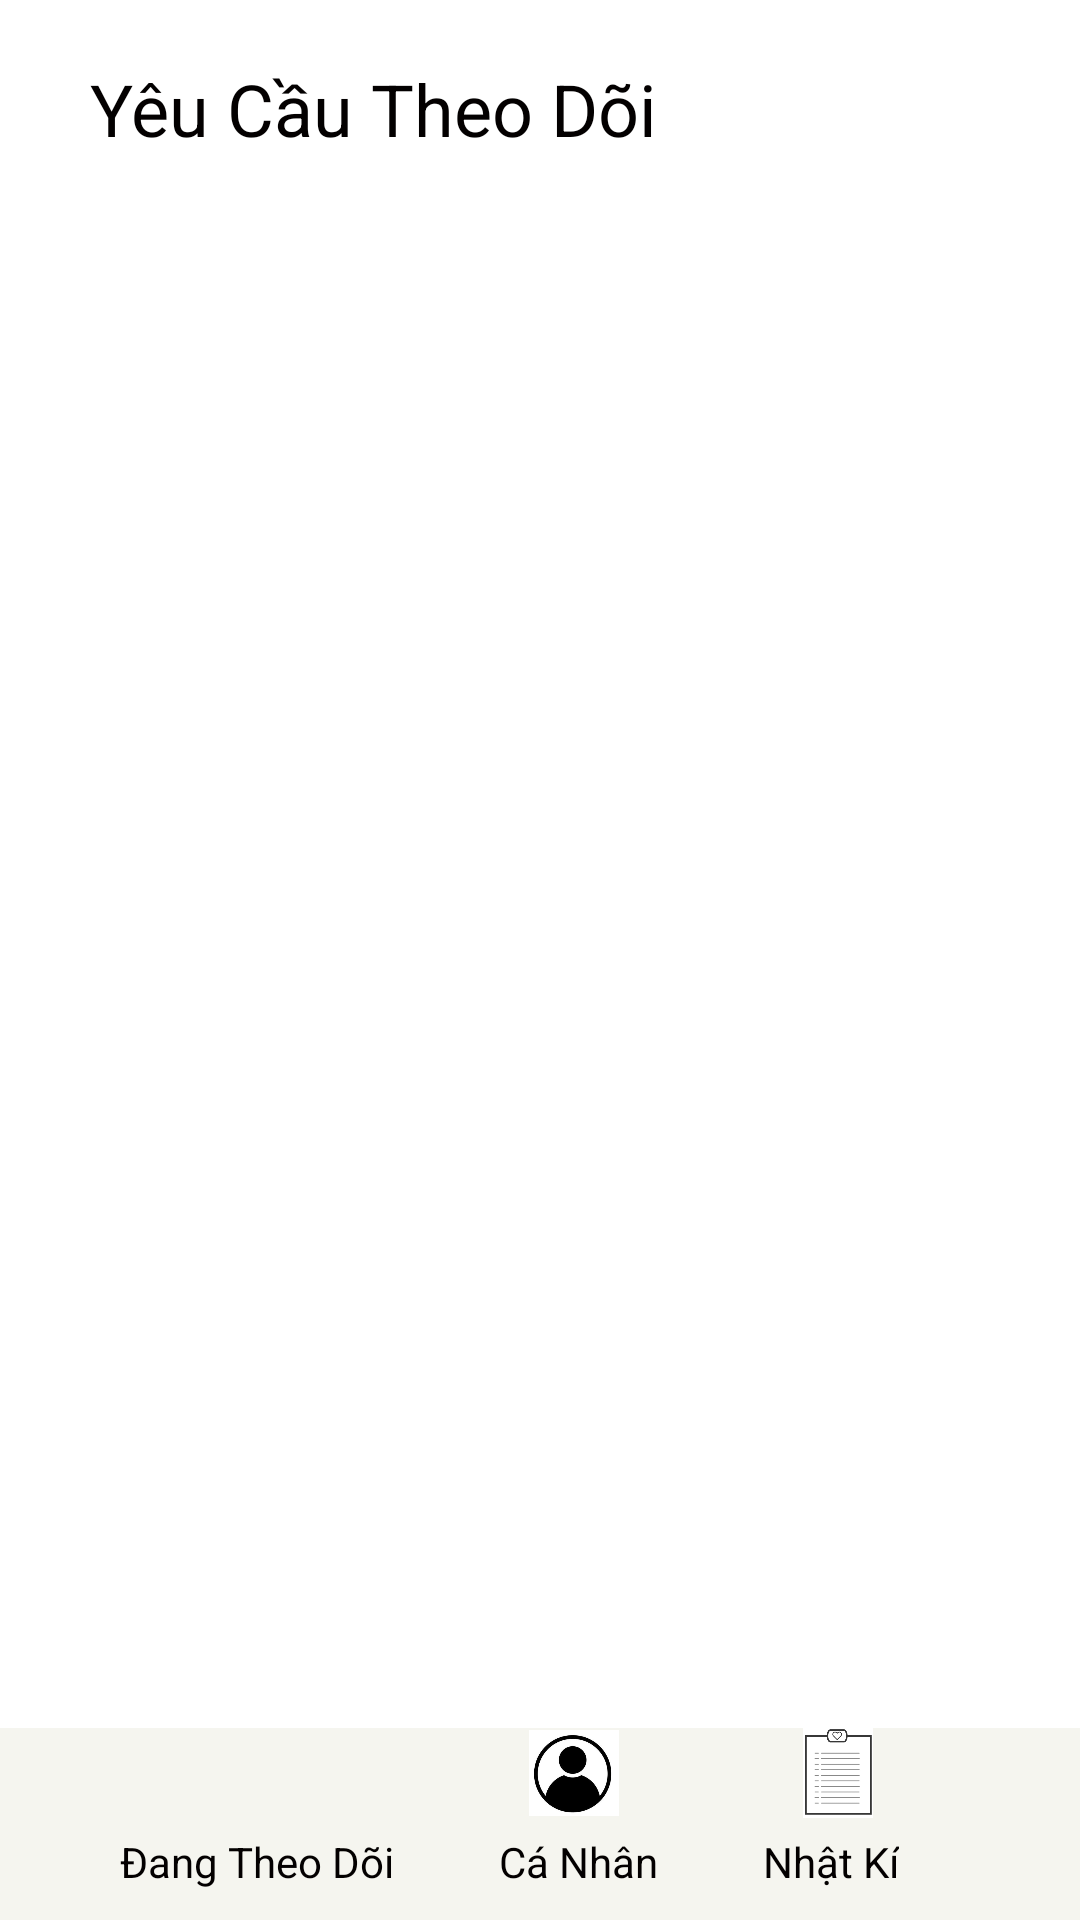

Icons on this 1080w x 1920h Android screen, each with the point to tap as (x,y):
iconavata: (574,1773)
